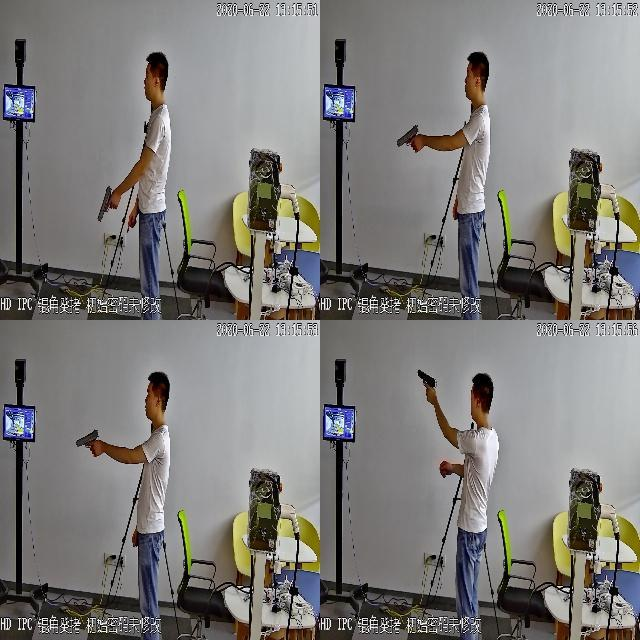gun-knife-thesis - v11 Yolov5 augmented: (94, 181, 119, 222), (393, 121, 421, 154), (74, 425, 100, 458), (415, 367, 438, 401)
